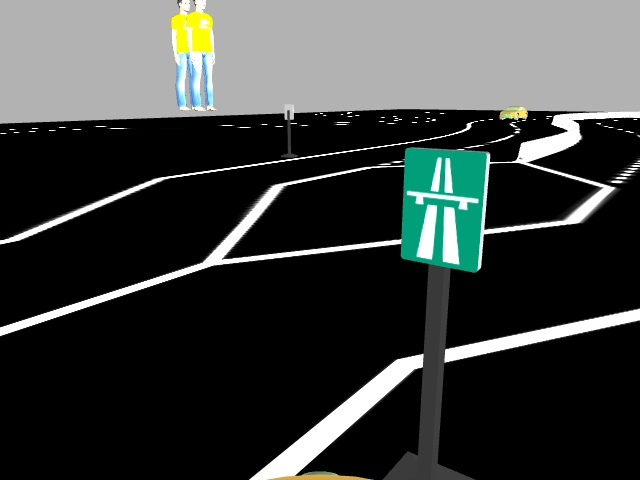HighwayEntrance: (401, 145, 488, 273)
